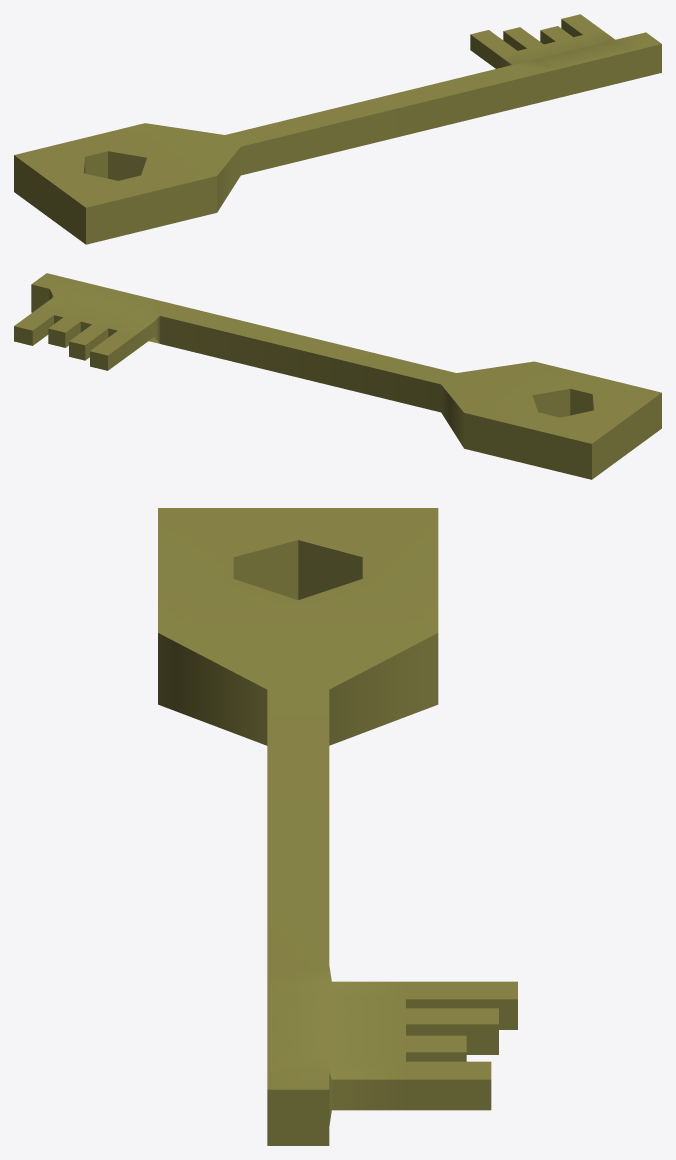
File: GoldenKey.fbx
The picture shows the model from 3 angles, top to bottom: view 1: azimuth 30°, elevation 25°; view 2: azimuth 150°, elevation 25°; view 3: azimuth 270°, elevation 25°; orthographic projection. The views are drawn at different scales.
Visible parts, largest first — view 1: Key1; view 2: Key1; view 3: Key1.
Boxes of the visible parts, x1,y1,x2,y2 form: Key1: [14, 14, 661, 244]; Key1: [14, 273, 661, 479]; Key1: [158, 508, 517, 1145].
Bounding box in the file's own units: 1.44 × 0.0842 × 0.3823.
